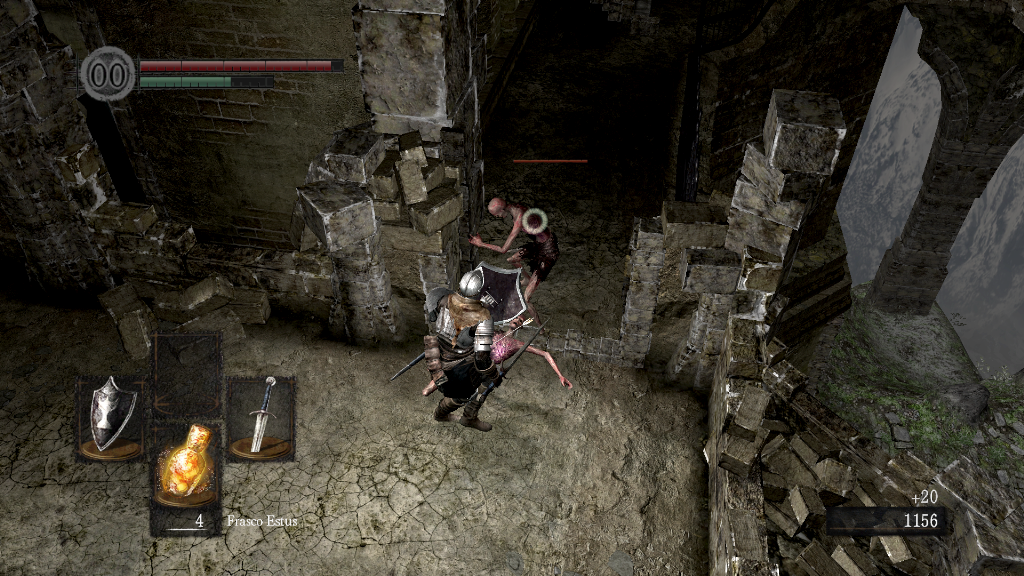health: (138, 58, 343, 71)
hollow: (464, 195, 560, 339)
humanity: (80, 45, 136, 102)
player: (387, 264, 553, 433)
souls: (825, 506, 945, 536)
stamina: (138, 74, 274, 88)
